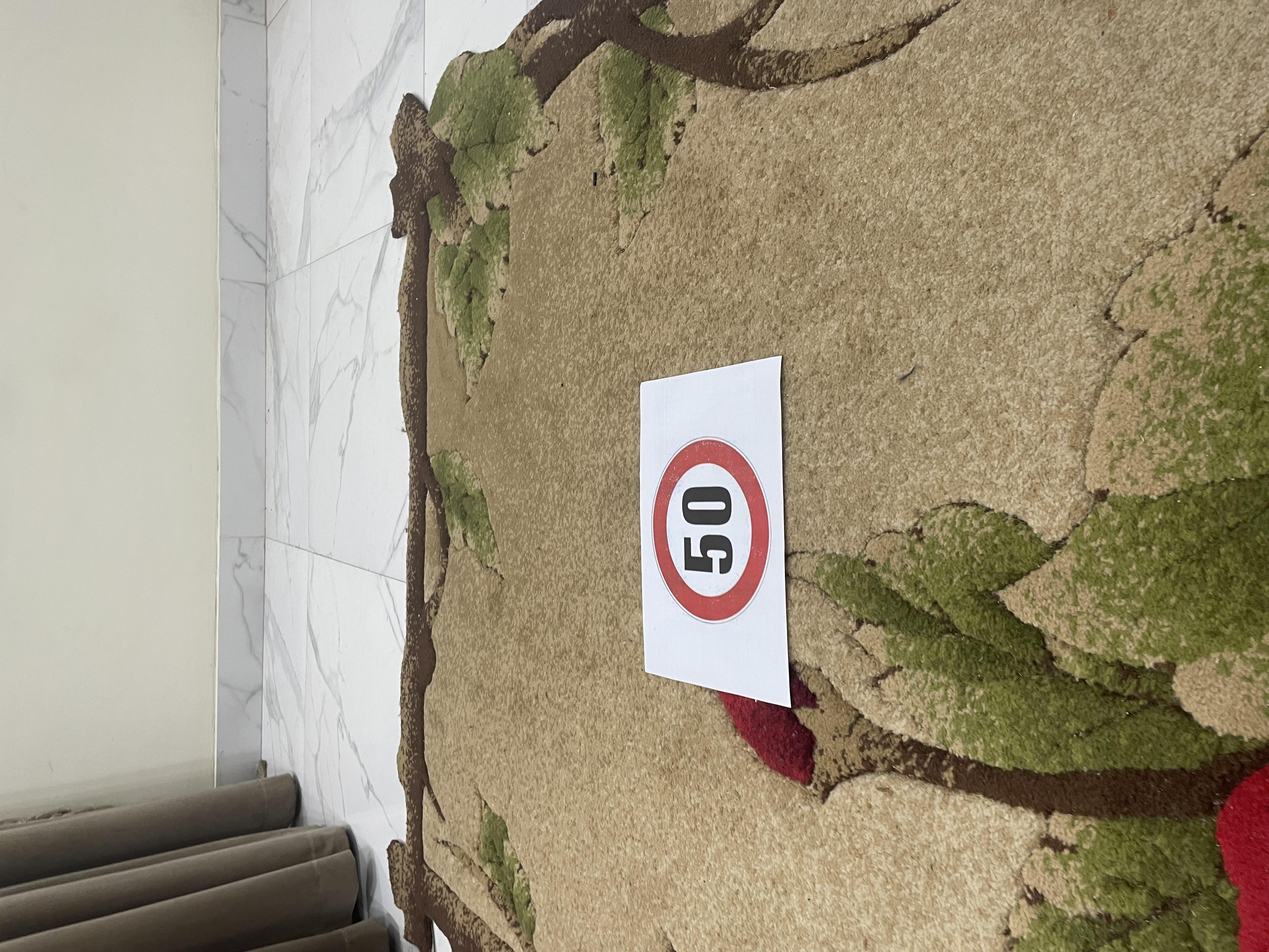50-Speed: (434, 481, 691, 582)
